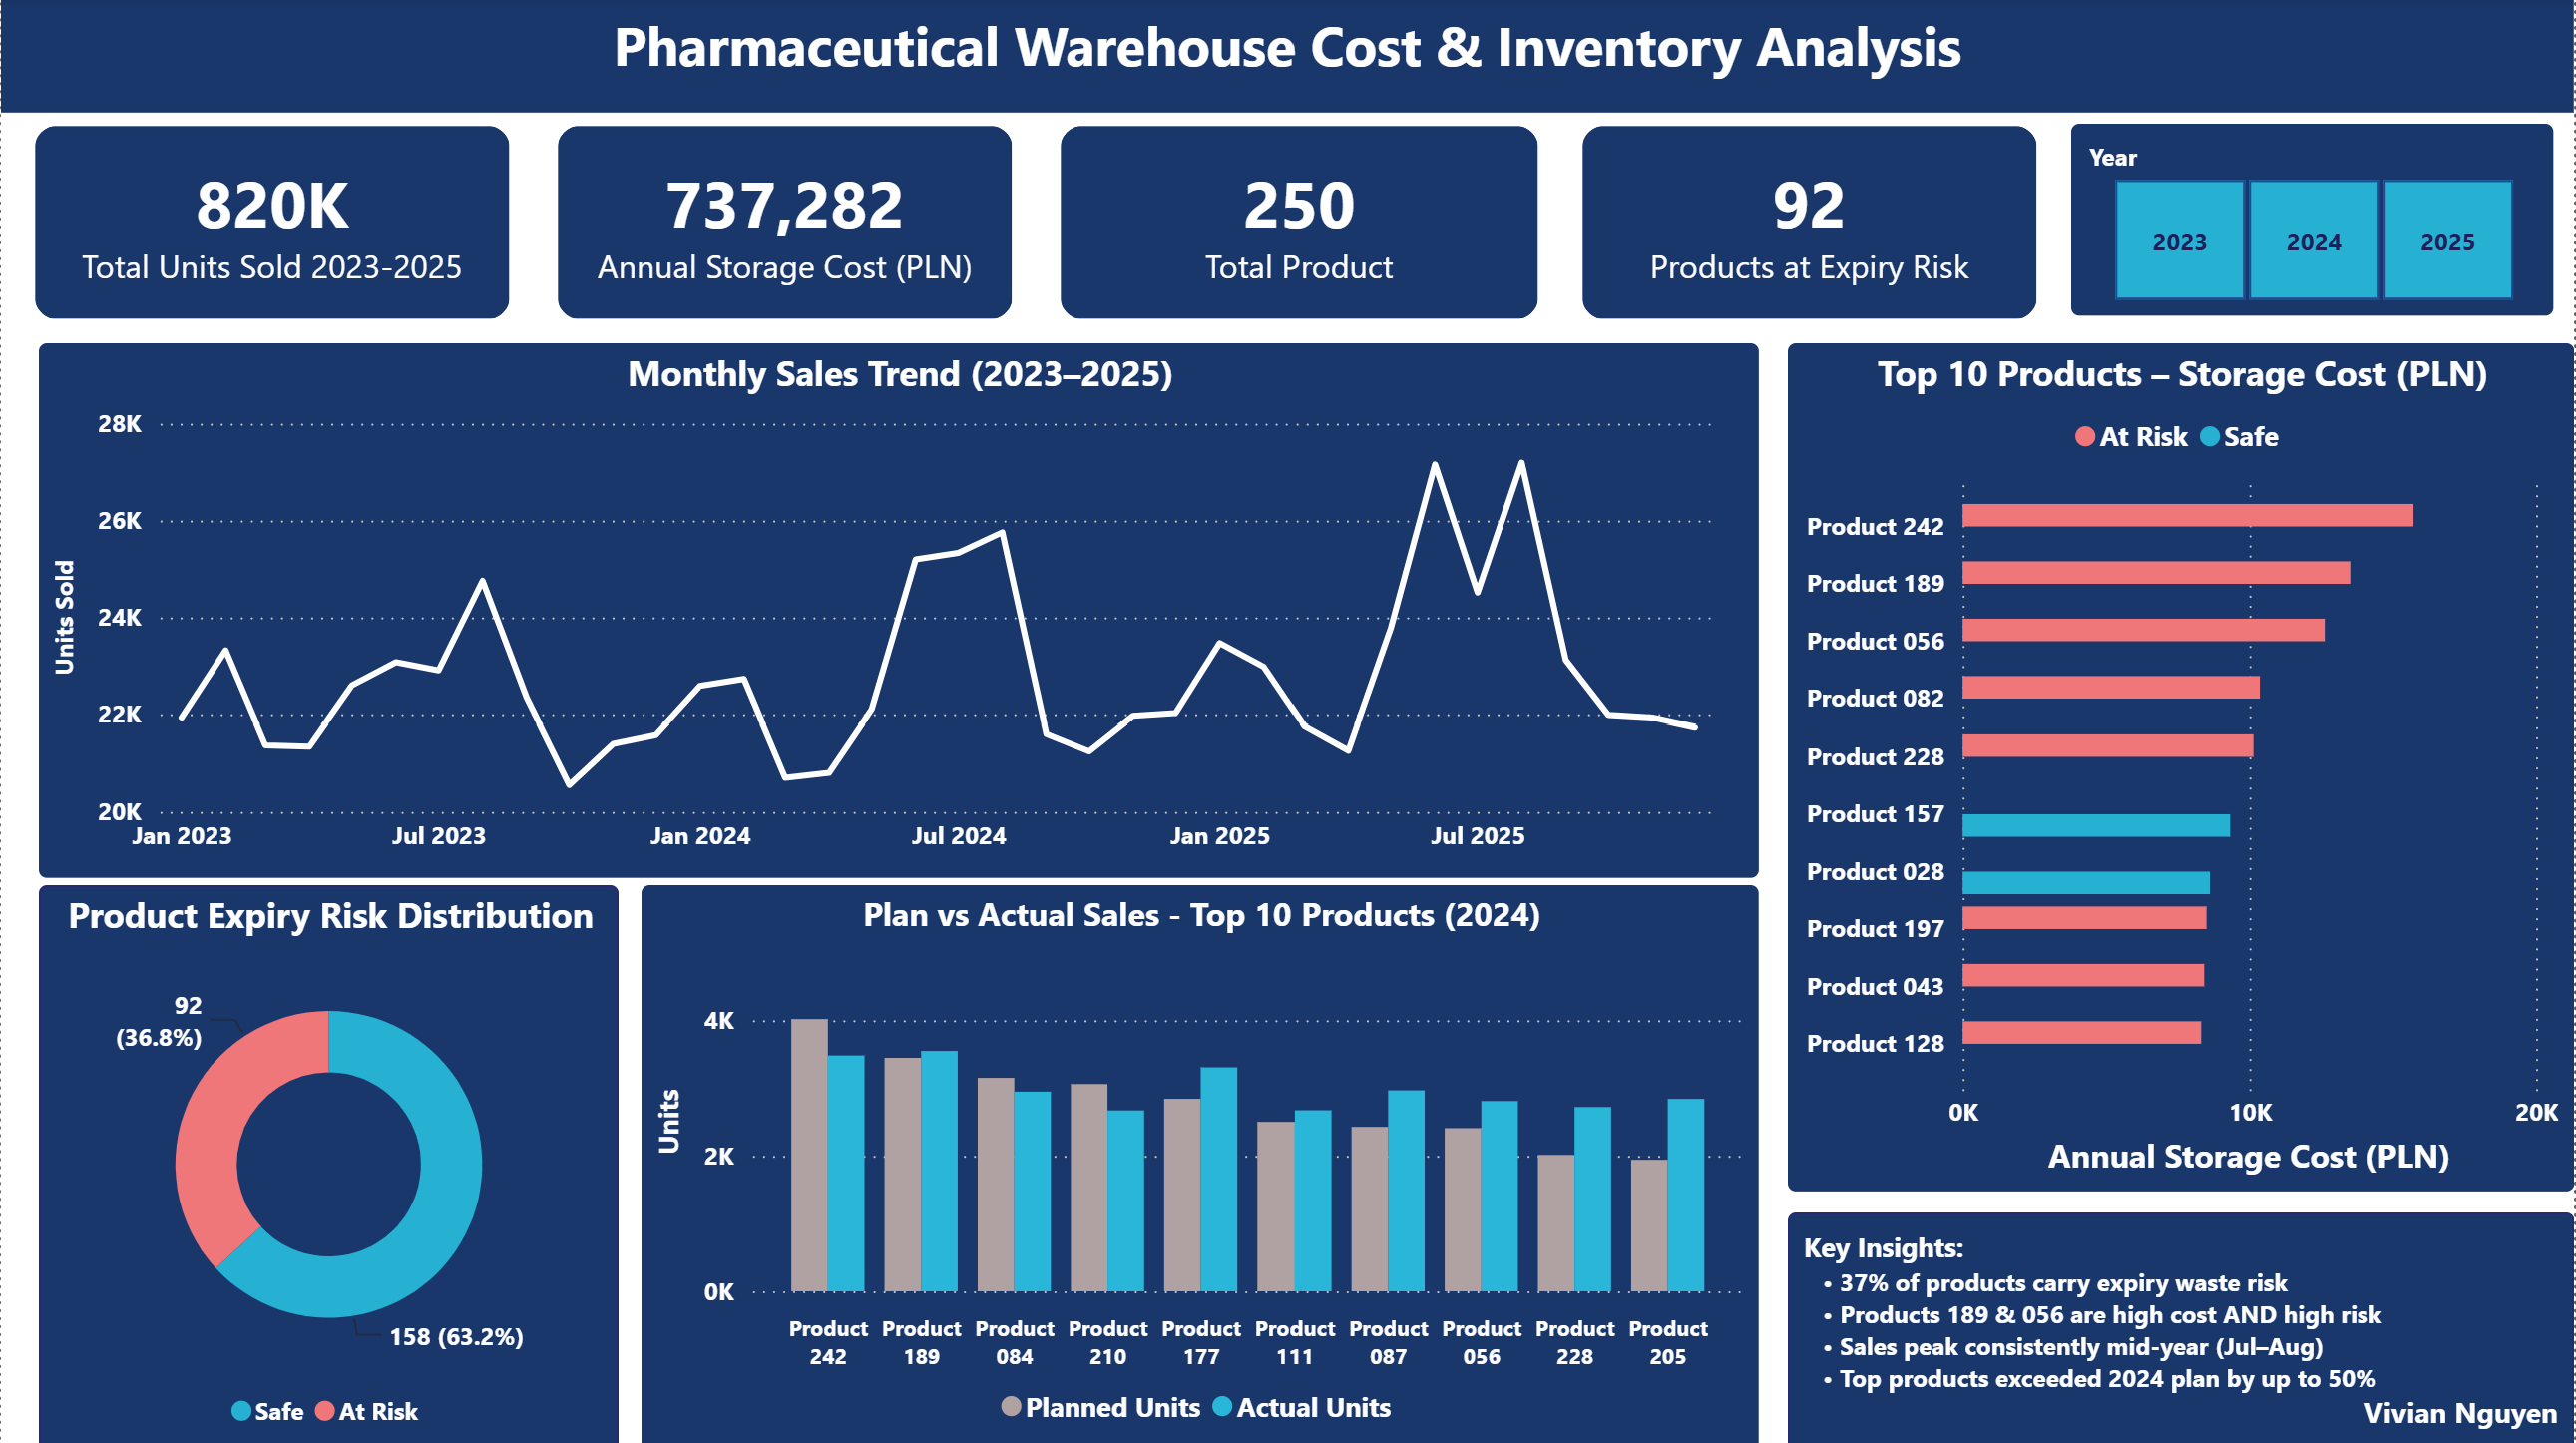

The page's visual inventory and layout, read from the dashboard file:
{"tool":"powerbi","page":{"name":"Page 1","canvas":[1280,720],"ordinal":0},"visuals":[{"type":"cardVisual","fields":{"Data":["Sum(export_monthly_sales.Units_sold)"]},"box":[0,46.4,270,130],"z":0},{"type":"cardVisual","fields":{"Data":["Sum(export_product_cost_summary.Annual_storage_cost_PLN)"]},"box":[260,46.4,260,130],"z":1000},{"type":"cardVisual","fields":{"Data":["Count(export_monthly_sales.ProductID)"]},"box":[510,47.1,271.4,130],"z":2000},{"type":"cardVisual","fields":{"Data":["export_risk_summary.Expiry Risk Products"]},"box":[770,46.4,260,130],"z":3000},{"type":"lineChart","title":"Monthly Sales Trend (2023–2025)","fields":{"Y":["Sum(export_monthly_sales.Units_sold)"],"Category":["export_monthly_sales.Month"]},"box":[18.6,171.4,855.7,265.7],"z":4000},{"type":"clusteredBarChart","title":"Top 10 Products – Storage Cost (PLN)","fields":{"Category":["export_product_cost_summary.Product_name"],"Y":["Sum(export_product_cost_summary.Annual_storage_cost_PLN)"],"Series":["export_risk_summary.Risk_Category"]},"box":[888.6,171.4,391.4,421.4],"z":5000},{"type":"slicer","fields":{"Values":["export_monthly_sales.Year"]},"box":[1030,62.9,240,95.7],"z":6000},{"type":"clusteredColumnChart","title":"Plan vs Actual Sales - Top 10 Products (2024)","fields":{"Category":["export_variance_summary.Product_name"],"Y":["Sum(export_variance_summary.Plan_2024_units)","Sum(export_variance_summary.Actual_2024)"]},"box":[318.6,441.4,555.7,281.4],"z":7000},{"type":"donutChart","title":"Product Expiry Risk Distribution","fields":{"Category":["export_risk_summary.Risk_Category"],"Y":["CountNonNull(export_risk_summary.Product_name)"]},"box":[18.6,441.4,288.6,282.9],"z":8000},{"type":"textbox","box":[0,0,1280,57.1],"z":9000},{"type":"textbox","box":[888.6,604.3,391.4,121.4],"z":10000}]}

Visuals, with their boxes in screenshot pixels (x1, y1, x2, y2), scaled from the page's 1280x720 canvas onto the 2576x1443 screenshot:
cardVisual - Sum(export_monthly_sales.Units_sold): bbox=(0, 93, 544, 353)
cardVisual - Sum(export_product_cost_summary.Annual_storage_cost_PLN): bbox=(523, 93, 1047, 353)
cardVisual - Count(export_monthly_sales.ProductID): bbox=(1027, 95, 1572, 355)
cardVisual - export_risk_summary.Expiry Risk Products: bbox=(1549, 93, 2073, 353)
"Monthly Sales Trend (2023–2025)" lineChart: bbox=(38, 343, 1760, 876)
"Top 10 Products – Storage Cost (PLN)" clusteredBarChart: bbox=(1788, 343, 2575, 1189)
slicer - export_monthly_sales.Year: bbox=(2073, 126, 2556, 318)
"Plan vs Actual Sales - Top 10 Products (2024)" clusteredColumnChart: bbox=(642, 884, 1760, 1442)
"Product Expiry Risk Distribution" donutChart: bbox=(38, 884, 619, 1442)
textbox: bbox=(0, 0, 2575, 115)
textbox: bbox=(1788, 1211, 2575, 1442)
